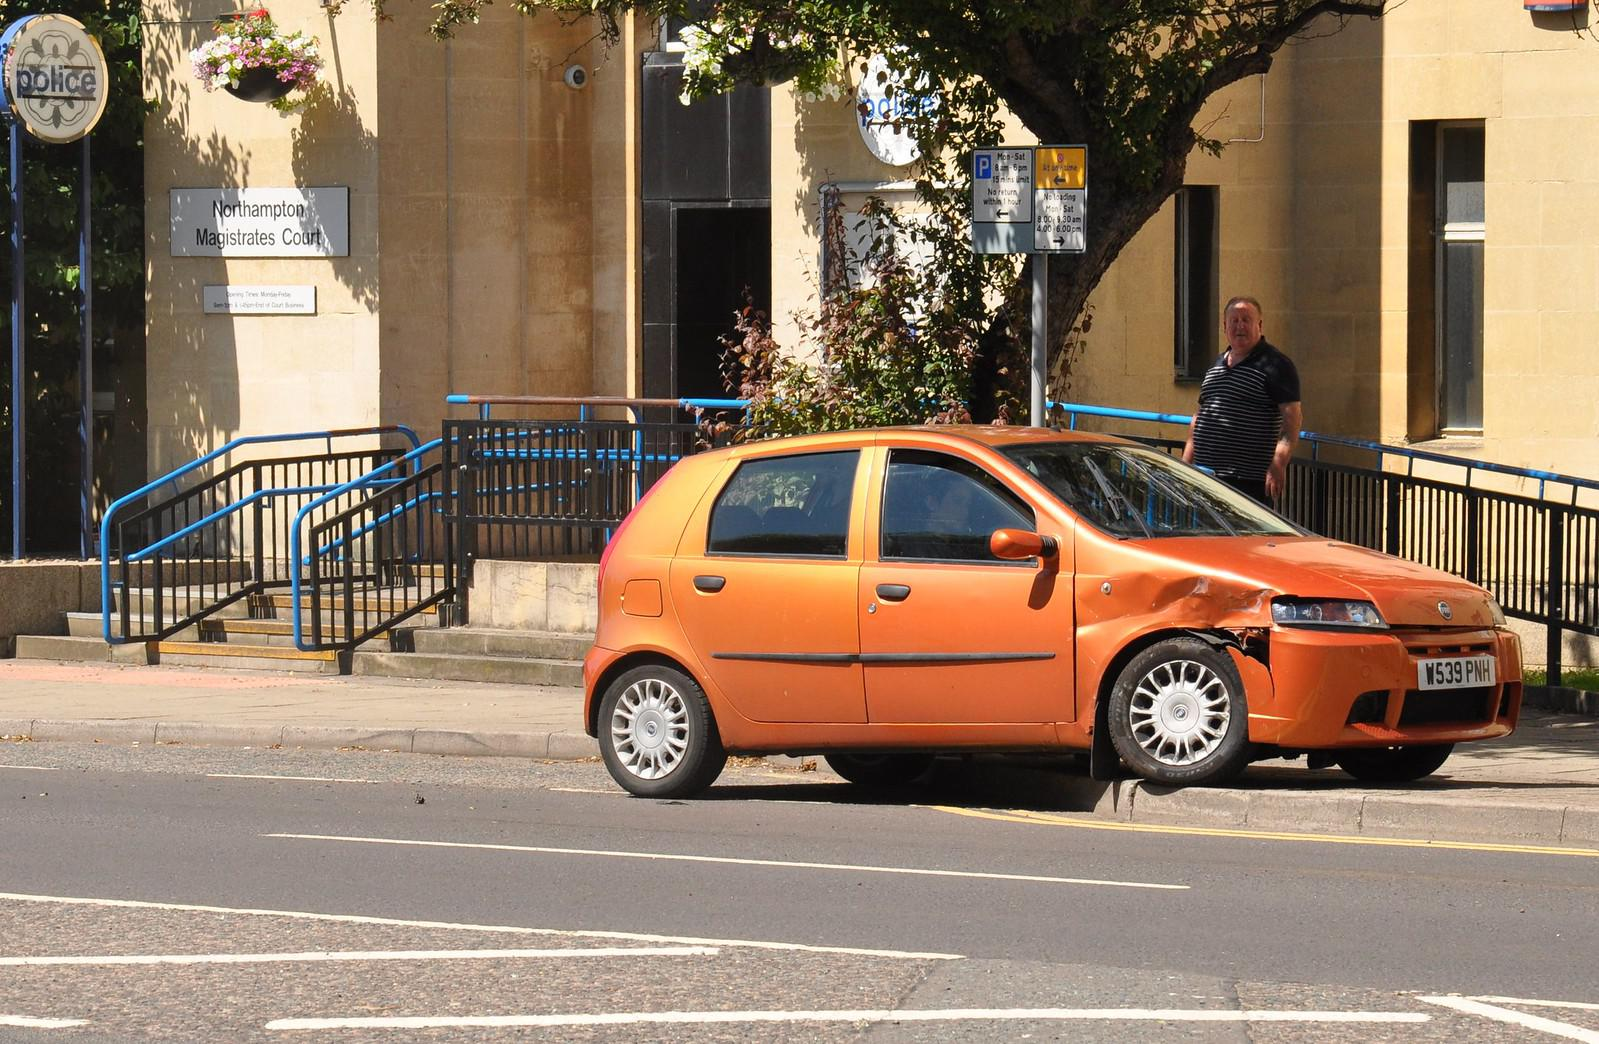Front-Windscreen-Damage: (995, 440, 1284, 560)
bonnet-dent: (1158, 539, 1517, 630)
fender-dent: (1078, 553, 1280, 749)
